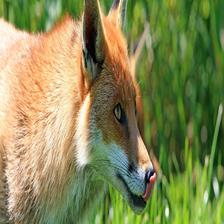fox: (0, 0, 168, 224)
